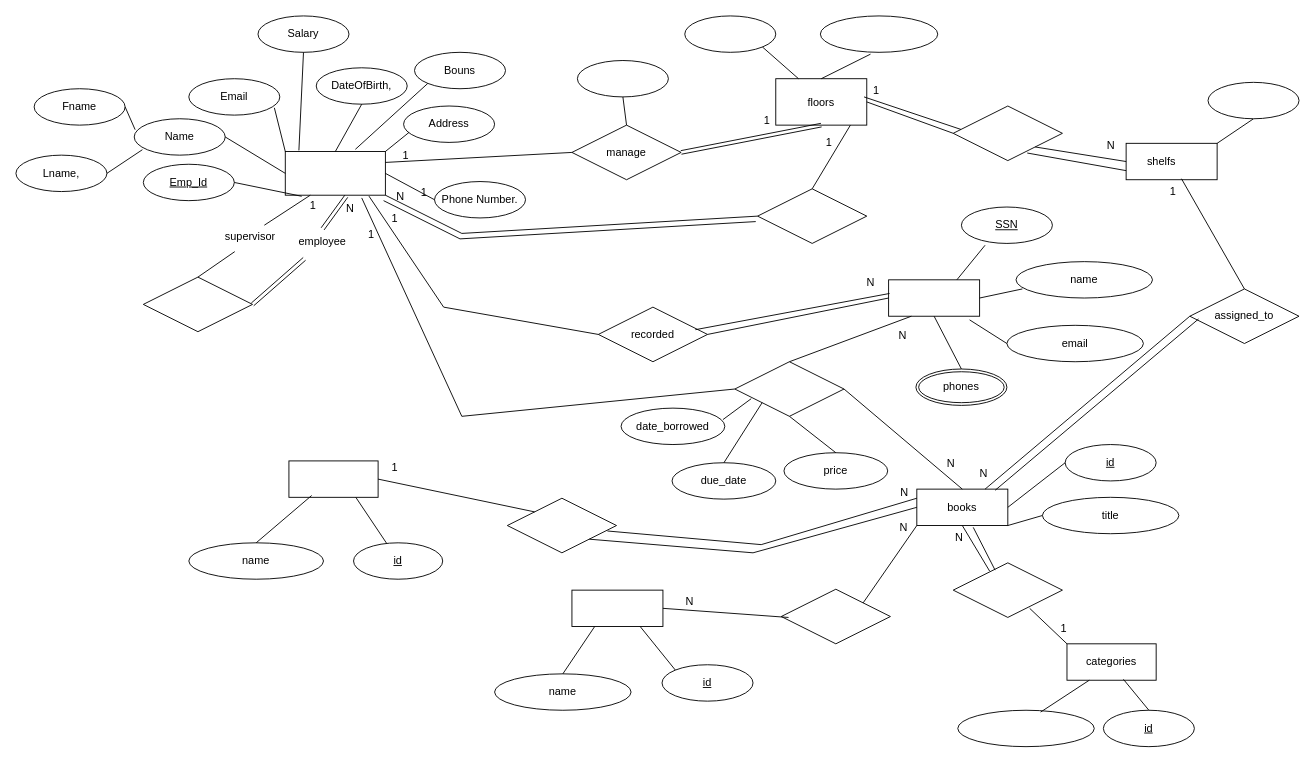
Image size: 1315x763. Some labels were removed from this diagram. Here are the shapes that lost their labels. From the top down, the box of each, then its label:
(684, 15, 776, 52): floor_number
(819, 15, 938, 52): number_of_blocks
(576, 60, 668, 97): hiring_date
(1207, 81, 1299, 119): code
(952, 105, 1062, 161): contains
(284, 151, 385, 195): employees
(757, 188, 867, 243): work
(142, 276, 253, 332): supervise
(888, 279, 980, 316): users
(734, 361, 844, 416): borrow
(288, 460, 378, 497): publishers
(506, 497, 617, 553): publish
(571, 589, 663, 627): authers
(952, 562, 1062, 617): has
(780, 588, 890, 644): own
(957, 709, 1094, 747): cat_name
